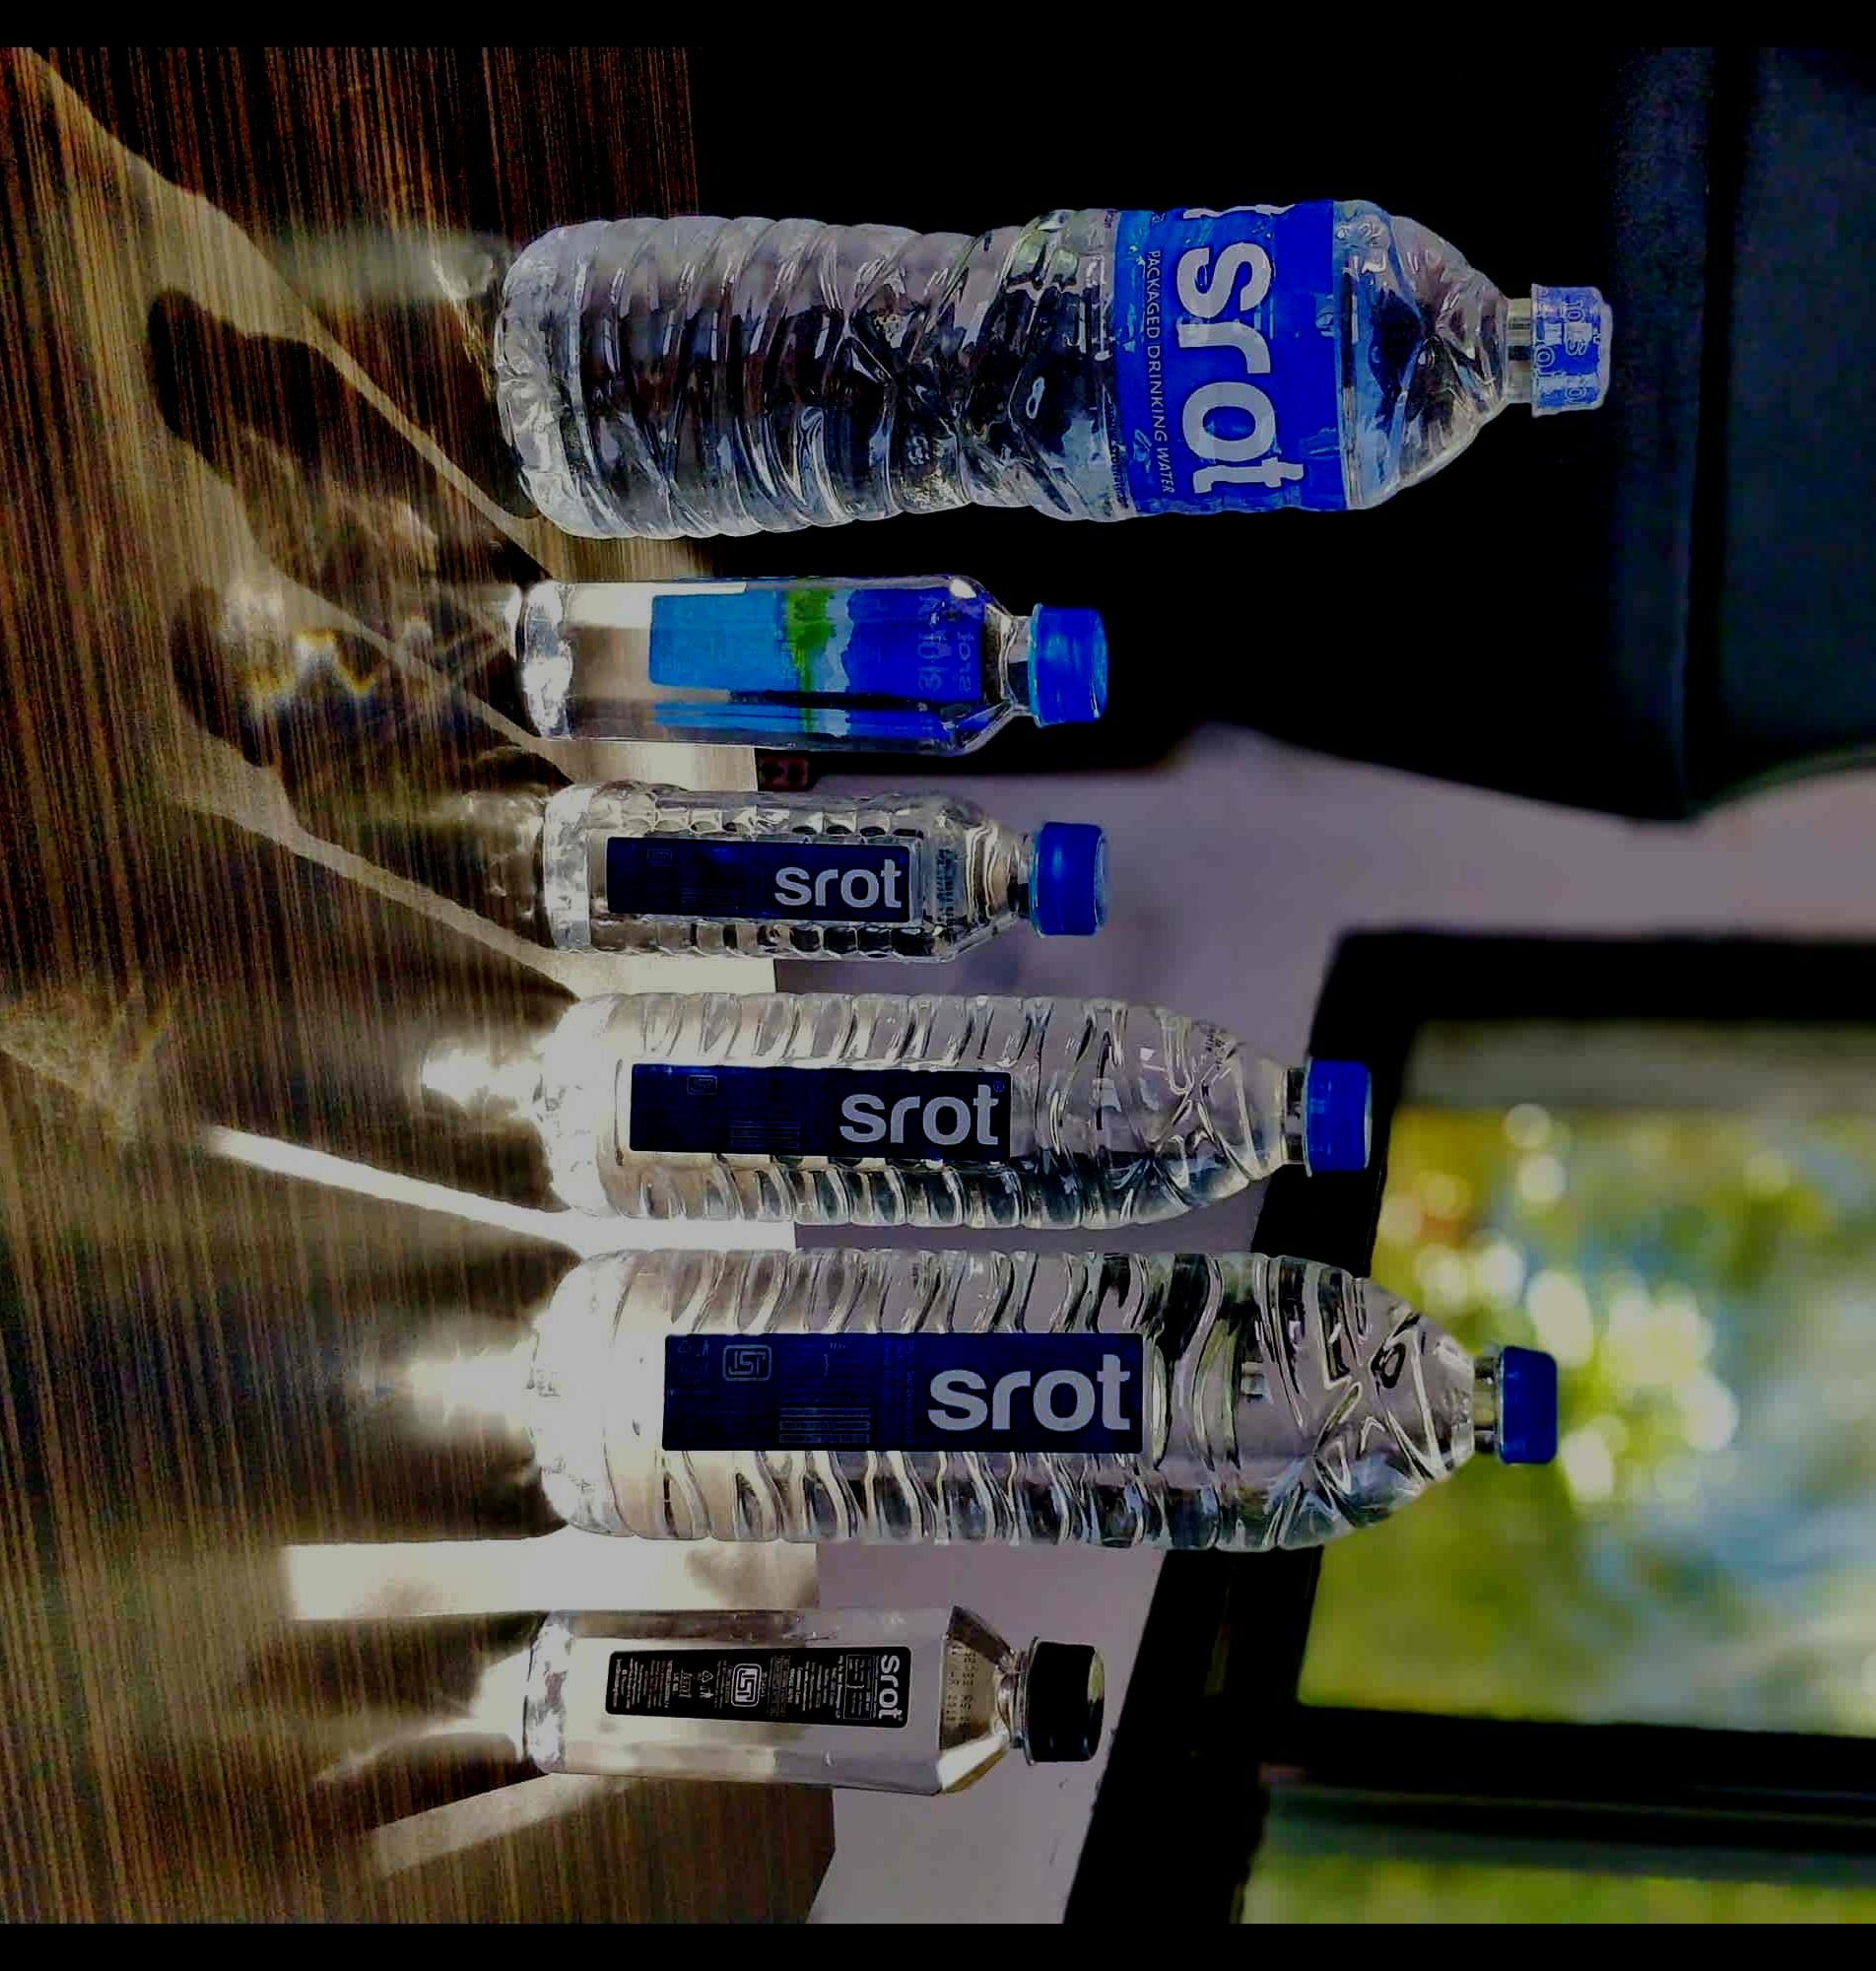bottle: (449, 178, 1651, 572), (500, 1202, 1601, 1570), (503, 991, 1415, 1237), (496, 1570, 1139, 1821), (496, 544, 1151, 778), (496, 753, 1139, 982)
